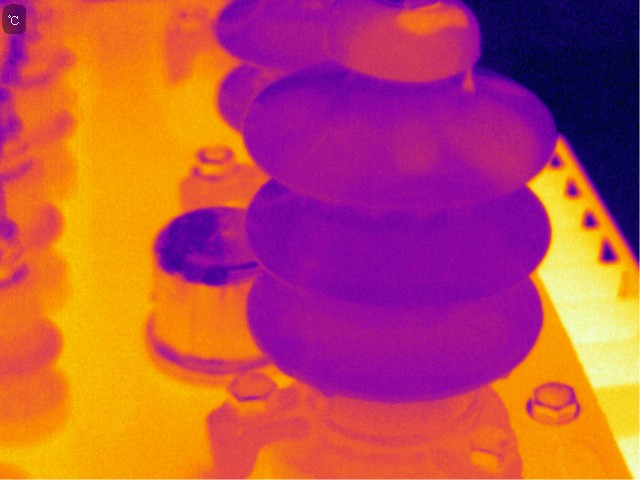Oil: (350, 1, 470, 56), (304, 127, 385, 187), (455, 117, 536, 174), (276, 87, 336, 136), (392, 126, 438, 170), (256, 187, 296, 217), (450, 63, 484, 94), (318, 382, 337, 400)
